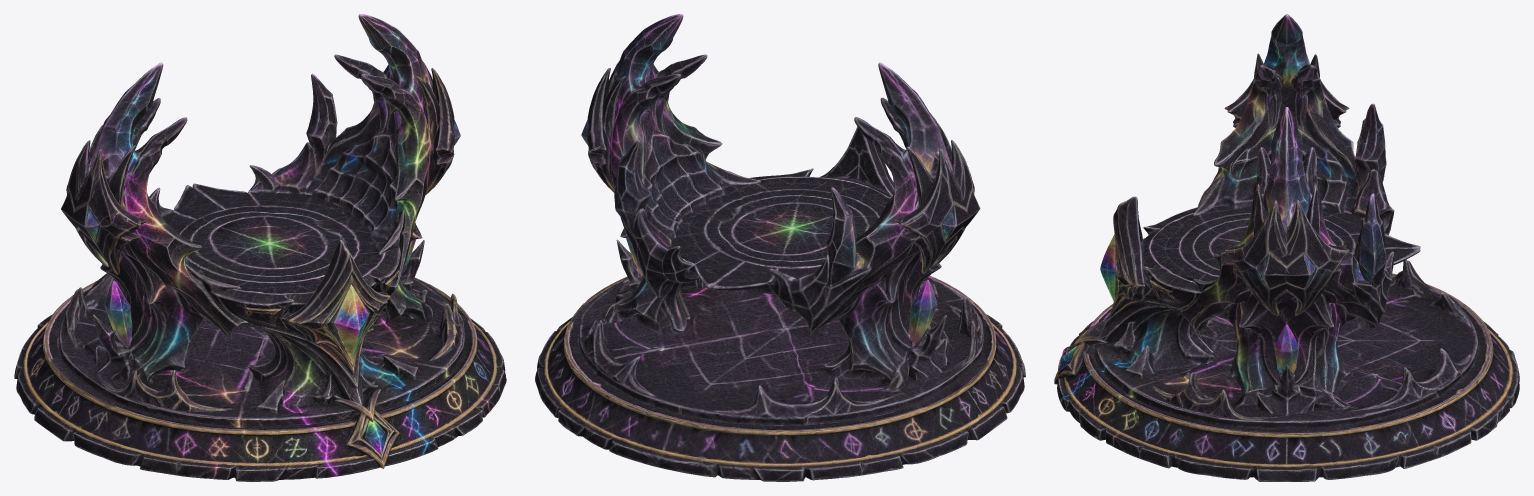
The model's file is pedestal.glb.
3 views of the same model, side by side, from view 1: azimuth 30°, elevation 25°; view 2: azimuth 150°, elevation 25°; view 3: azimuth 270°, elevation 25° (orthographic). The views are drawn at different scales.
Bounding box in the file's own units: 1.9 × 1.46 × 1.9.
Materials: 1 (1 with a texture image).
